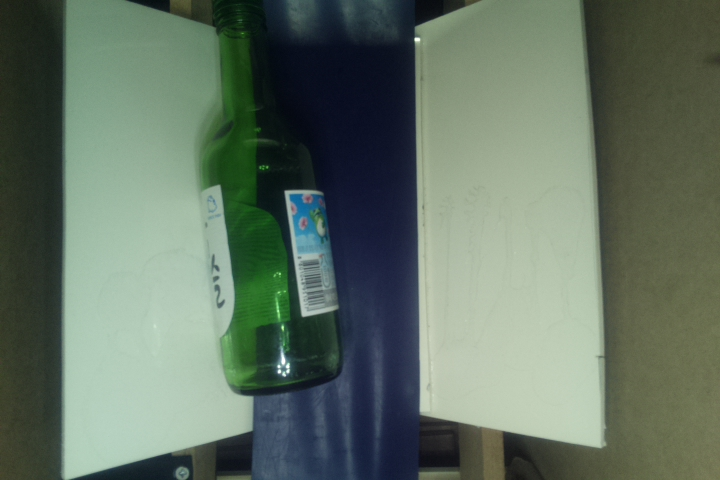soju: (192, 1, 346, 396)
